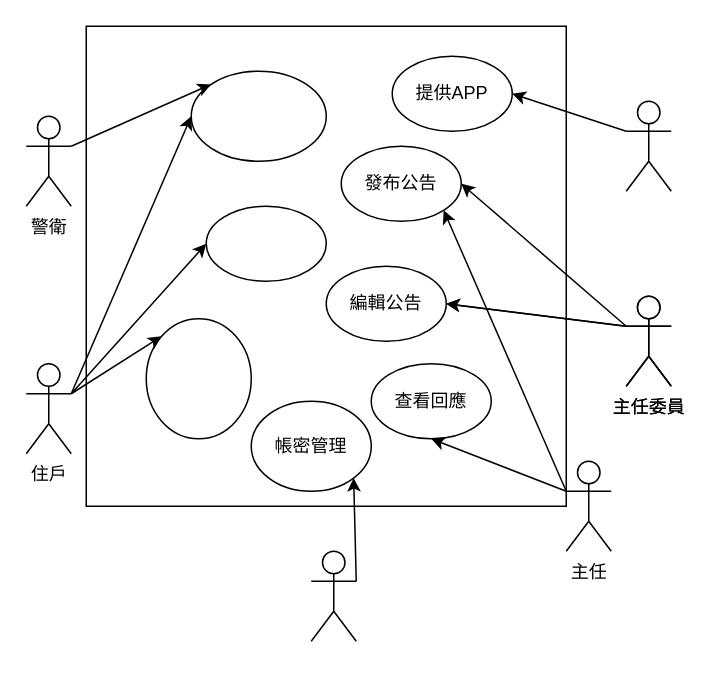
Some shapes in this 720 by 699 pixel diagram are drawn without their labels. The shapes that lost their labels are listed below. From the top down, each one's box as (x1, y1, x2, y2) in pixels, then its label:
(190, 70, 326, 161): 收取信件、包裹
(625, 100, 671, 191): 噗攏貢公司
(205, 205, 326, 281): 綁定手機
(145, 317, 251, 439): 瀏覽、回應社區公告
(310, 550, 356, 641): 系統管理員
